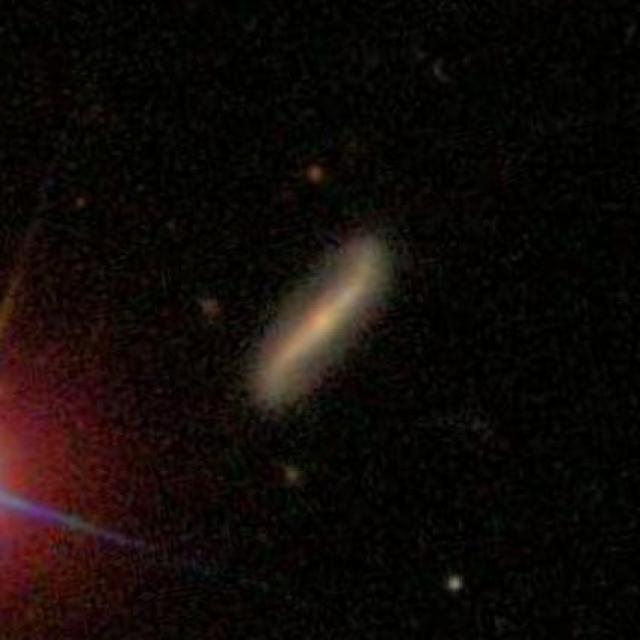galaxy: (240, 233, 395, 429), (195, 294, 229, 327), (280, 461, 304, 491), (446, 571, 468, 596), (305, 163, 327, 185)
star: (1, 226, 171, 634)
